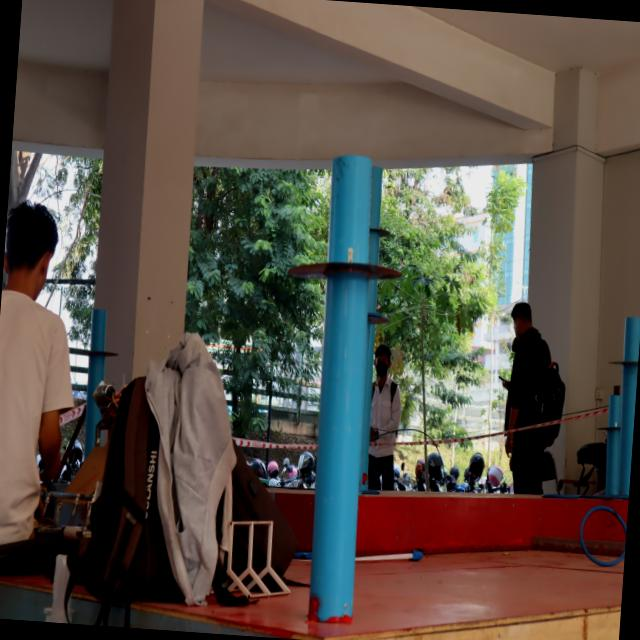pole: (278, 140, 405, 328), (604, 314, 640, 380), (596, 392, 627, 451)
